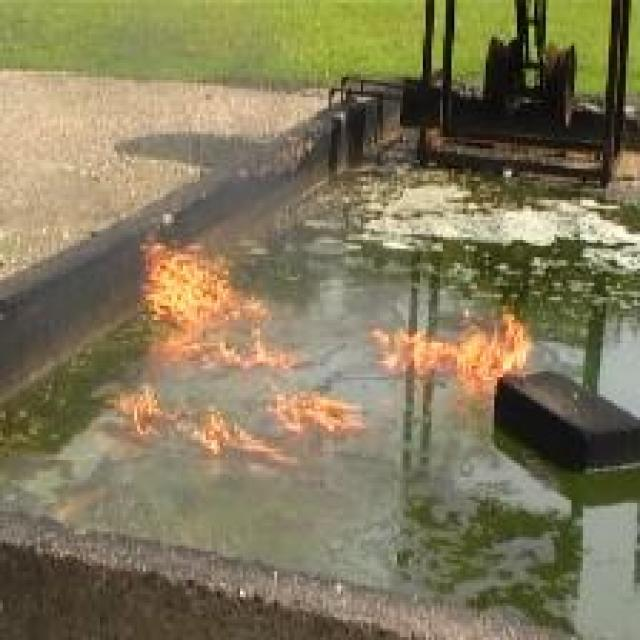Fire: (144, 240, 299, 372), (102, 382, 298, 464), (372, 307, 534, 390), (266, 376, 372, 433)
